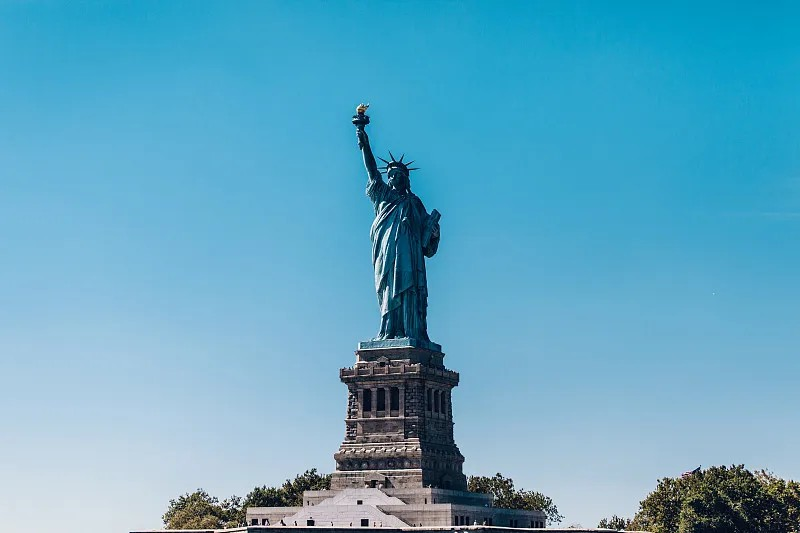SL: (329, 102, 469, 493)
